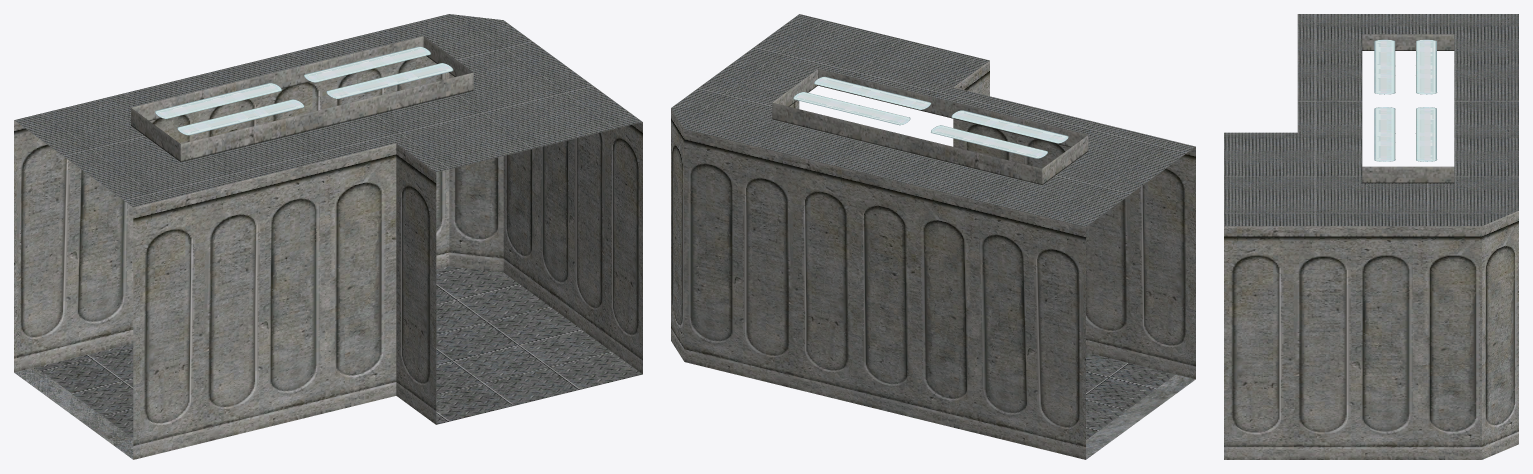
Rendered from mun_all_guild_combat_s01_r2_halla_mesh_halla.fbx.
3 views of the same model, side by side, from view 1: azimuth 30°, elevation 25°; view 2: azimuth 150°, elevation 25°; view 3: azimuth 270°, elevation 25° (orthographic). The views are drawn at different scales.
Visible parts, largest first — view 1: mesh_node; view 2: mesh_node; view 3: mesh_node.
Part boxes in pixels (bbox=[...]): mesh_node: bbox=[14, 14, 642, 459]; mesh_node: bbox=[671, 14, 1195, 459]; mesh_node: bbox=[1224, 14, 1518, 459].
Bounding box in the file's own units: 6.82 × 3.75 × 4.
